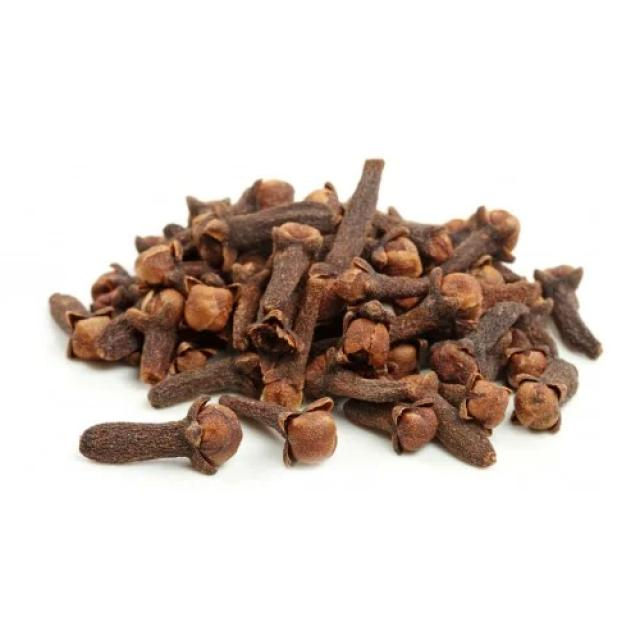clove: (50, 160, 600, 466), (272, 222, 322, 254)
